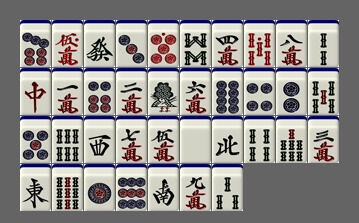0m: (52, 20, 83, 67)
0p: (148, 20, 179, 67)
0s: (244, 20, 275, 67)
1m: (52, 68, 83, 115)
1p: (84, 164, 115, 211)
1s: (148, 68, 179, 115)
1z: (20, 164, 51, 211)
2m: (116, 68, 147, 115)
2p: (276, 68, 307, 115)
2s: (308, 20, 339, 67)
2z: (148, 164, 179, 211)
3m: (308, 116, 339, 163)
3p: (116, 20, 147, 67)
3s: (212, 164, 243, 211)
3z: (84, 116, 115, 163)
4m: (212, 20, 243, 67)
4p: (244, 68, 275, 115)
4s: (244, 116, 275, 163)
4z: (212, 116, 243, 163)
5m: (148, 116, 179, 163)
5p: (20, 116, 51, 163)
5s: (308, 68, 339, 115)
5z: (180, 116, 211, 163)
6m: (180, 68, 211, 115)
6p: (84, 68, 115, 115)
6s: (52, 116, 83, 163)
6z: (84, 20, 115, 67)
7m: (116, 116, 147, 163)
7p: (20, 20, 51, 67)
7s: (276, 116, 307, 163)
7z: (20, 68, 51, 115)
8m: (276, 20, 307, 67)
8p: (212, 68, 243, 115)
8s: (180, 20, 211, 67)
9m: (180, 164, 211, 211)
9p: (116, 164, 147, 211)
9s: (52, 164, 83, 211)
